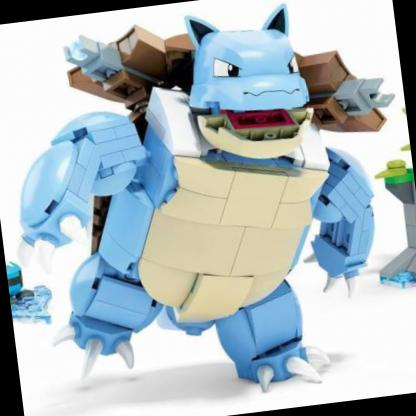Turtok: (0, 0, 401, 413)
